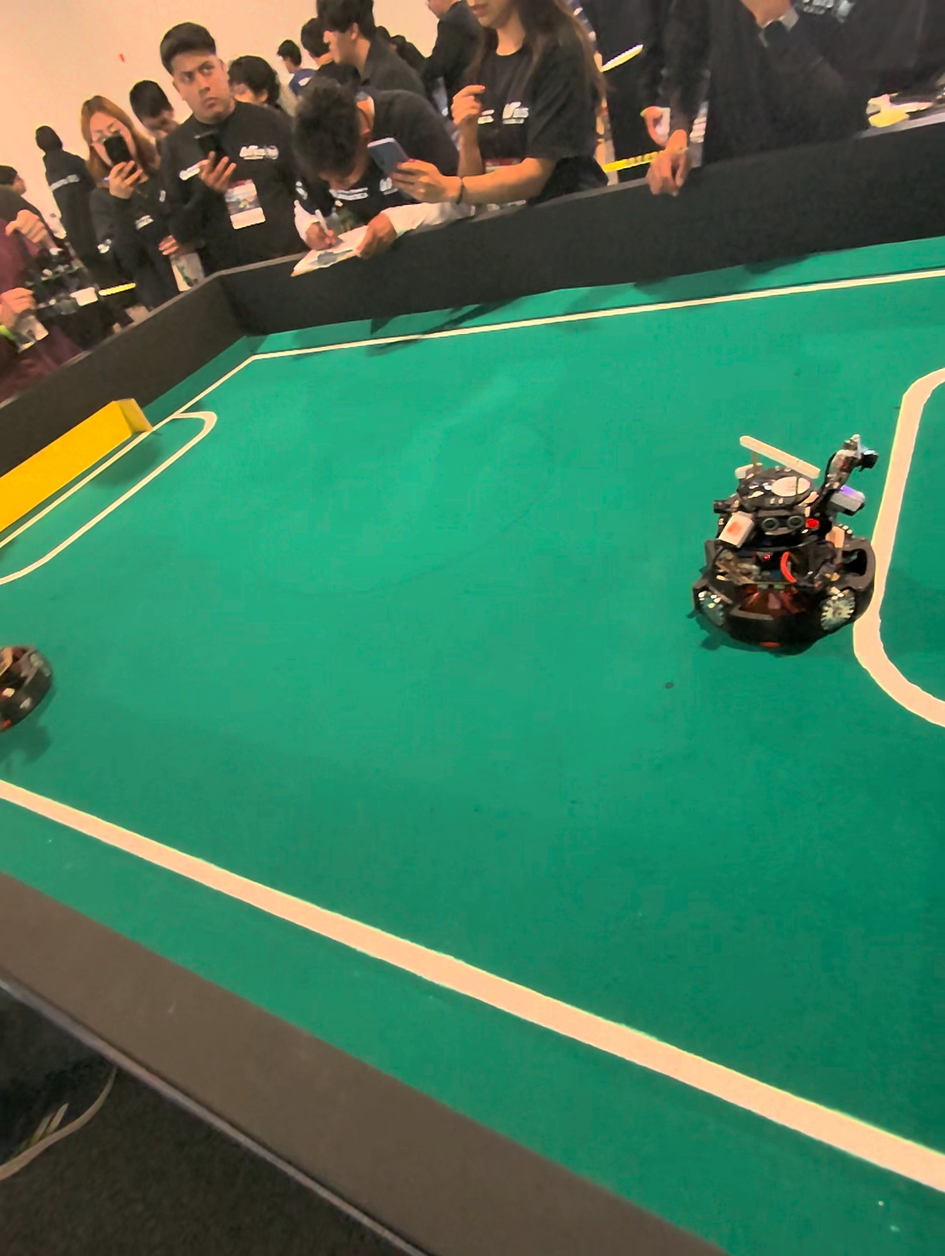Robot: (701, 400, 878, 660)
